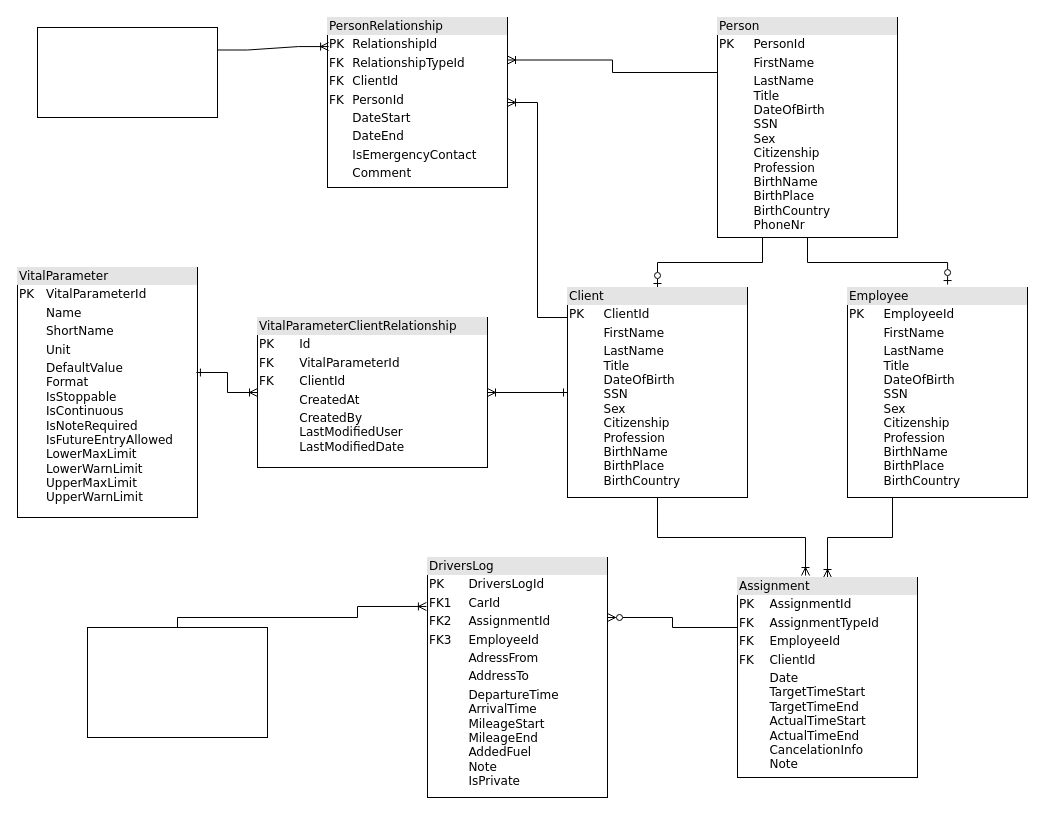
This 1045x815 diagram has some shape labels left out. The shapes that lost their labels are listed below. From the top down, each one's centre as x and y in pixels, then its label:
[127,72]: RelationshipType PK RelationshipTypeId Value ShortValue
[177,682]: Car PK CarId LicensePlate LastCheck DateStart DateEnd
